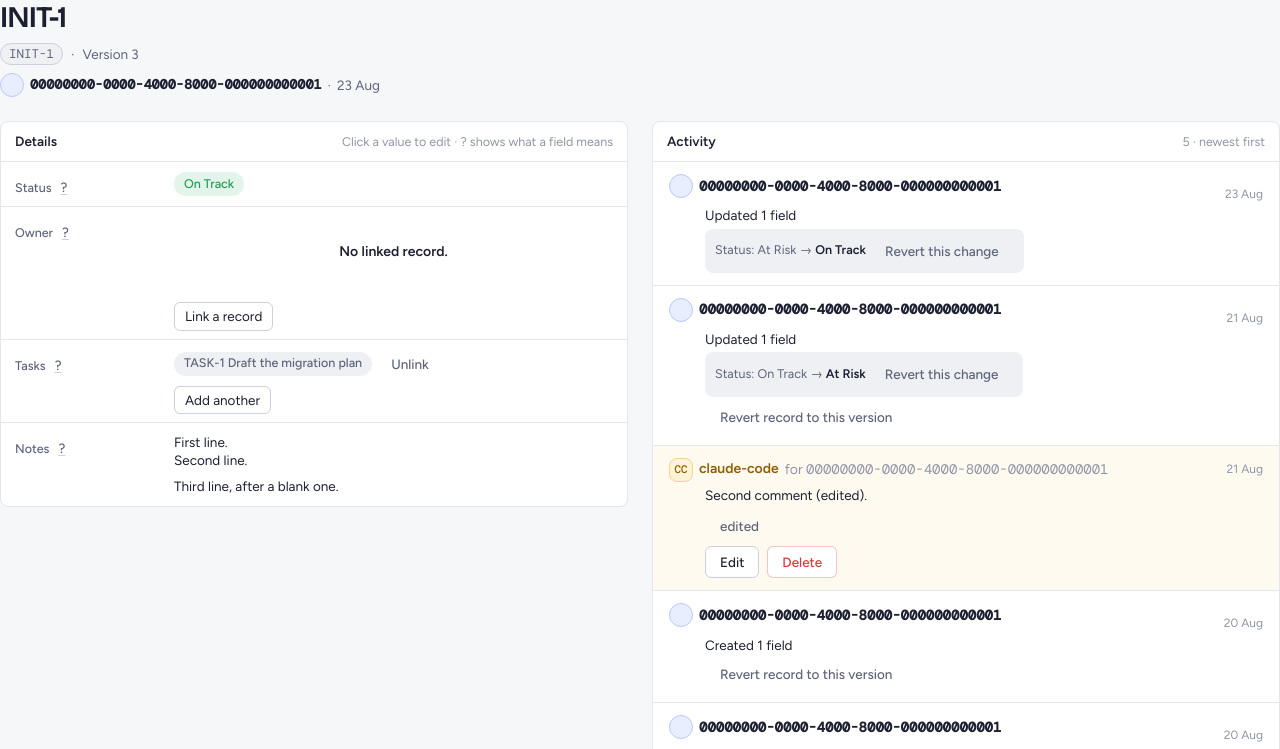
it: RecordDetailView › editing through the write path › routes a 409 to the same MergeConflictDialog the table uses, and resubmits through it
The image size is (1280, 749).
Expected: the heading "INIT-1" is shown, left=0, top=0, right=66, bottom=35
Click the button with aria-label "Edit Status" at (209, 184), box left=161, top=170, right=613, bottom=198
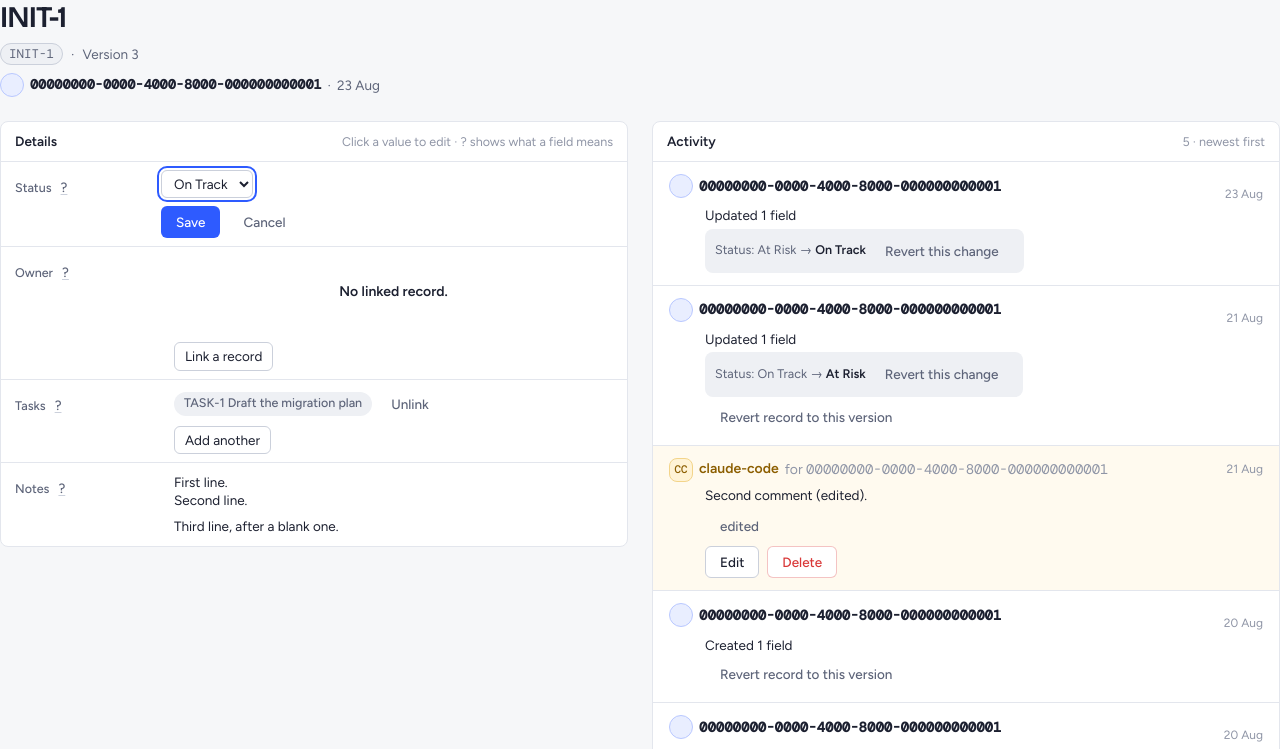
Select "At Risk" in the dropdown named "Status value for INIT-1" at (207, 184), box left=161, top=170, right=253, bottom=198
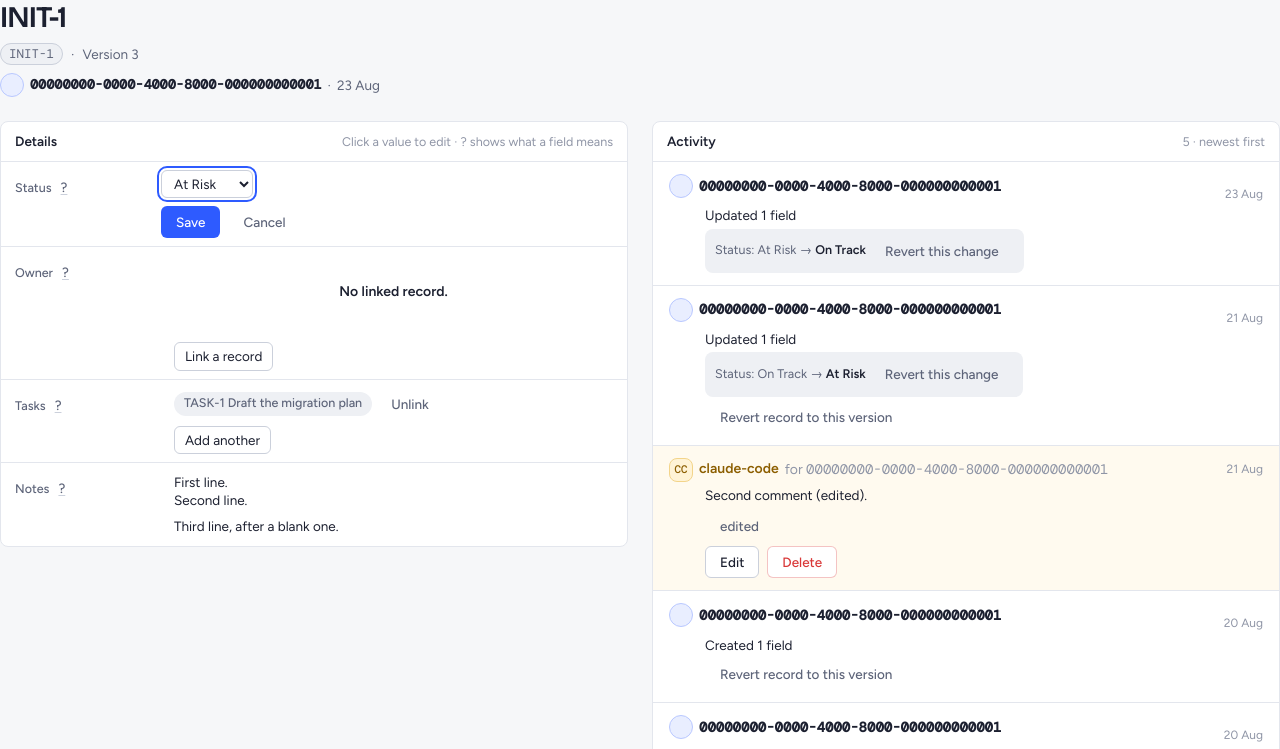
Click the button "Save" at (191, 222), box left=161, top=206, right=220, bottom=238
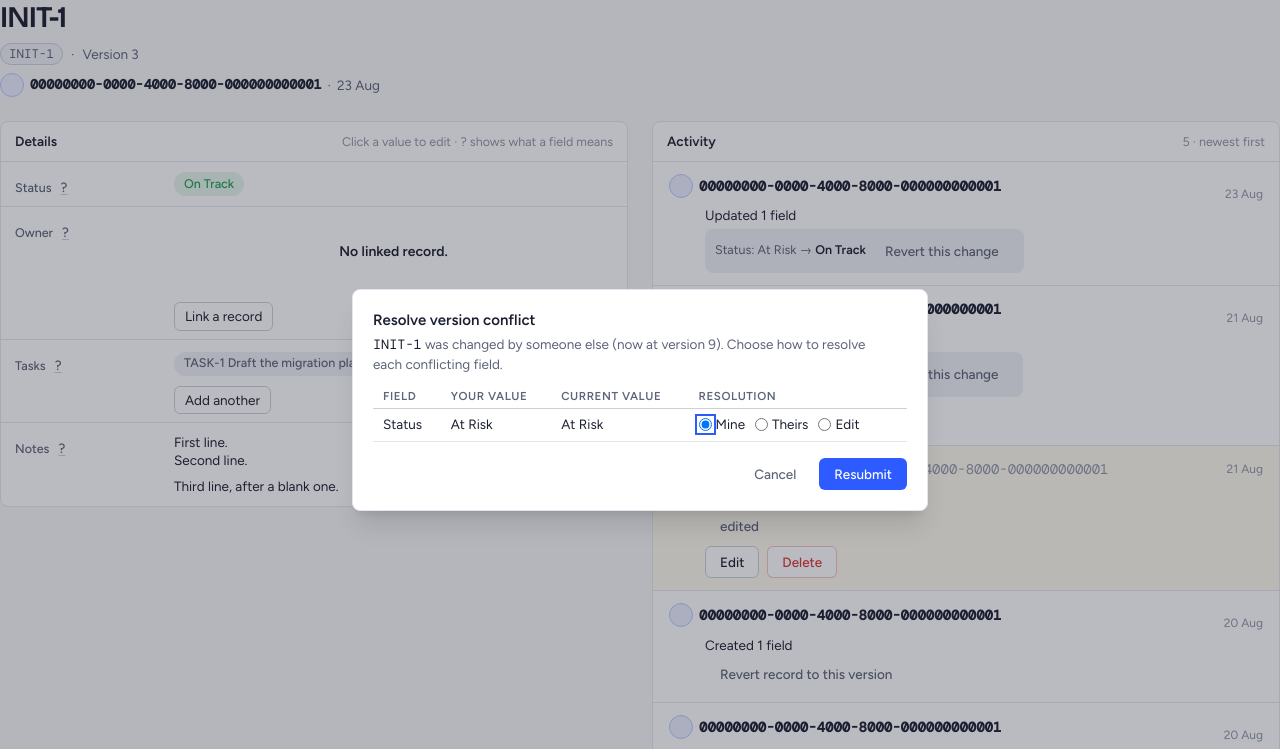
Now the row with test id "conflict-field-status" is shown, box left=373, top=409, right=907, bottom=442
Click the button "Resubmit" at (863, 474), box left=819, top=458, right=907, bottom=490
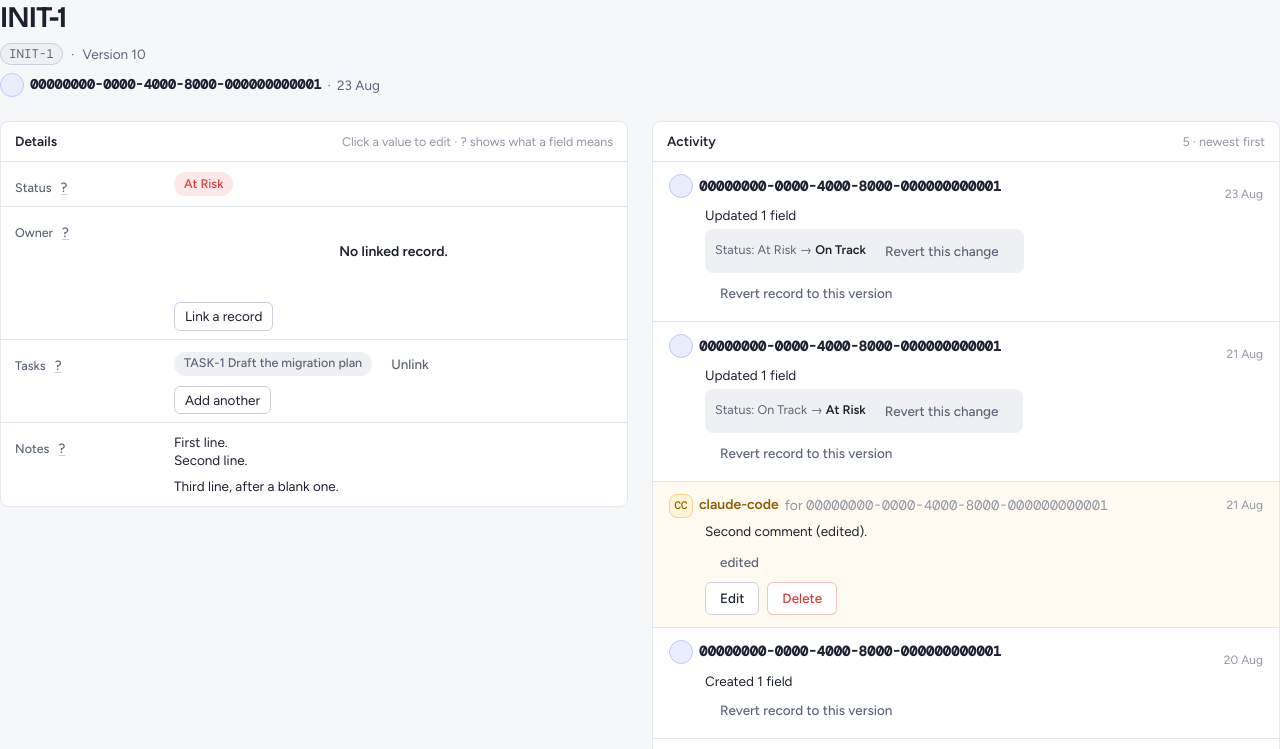
Now the dialog with test id "merge-conflict-dialog" is gone
